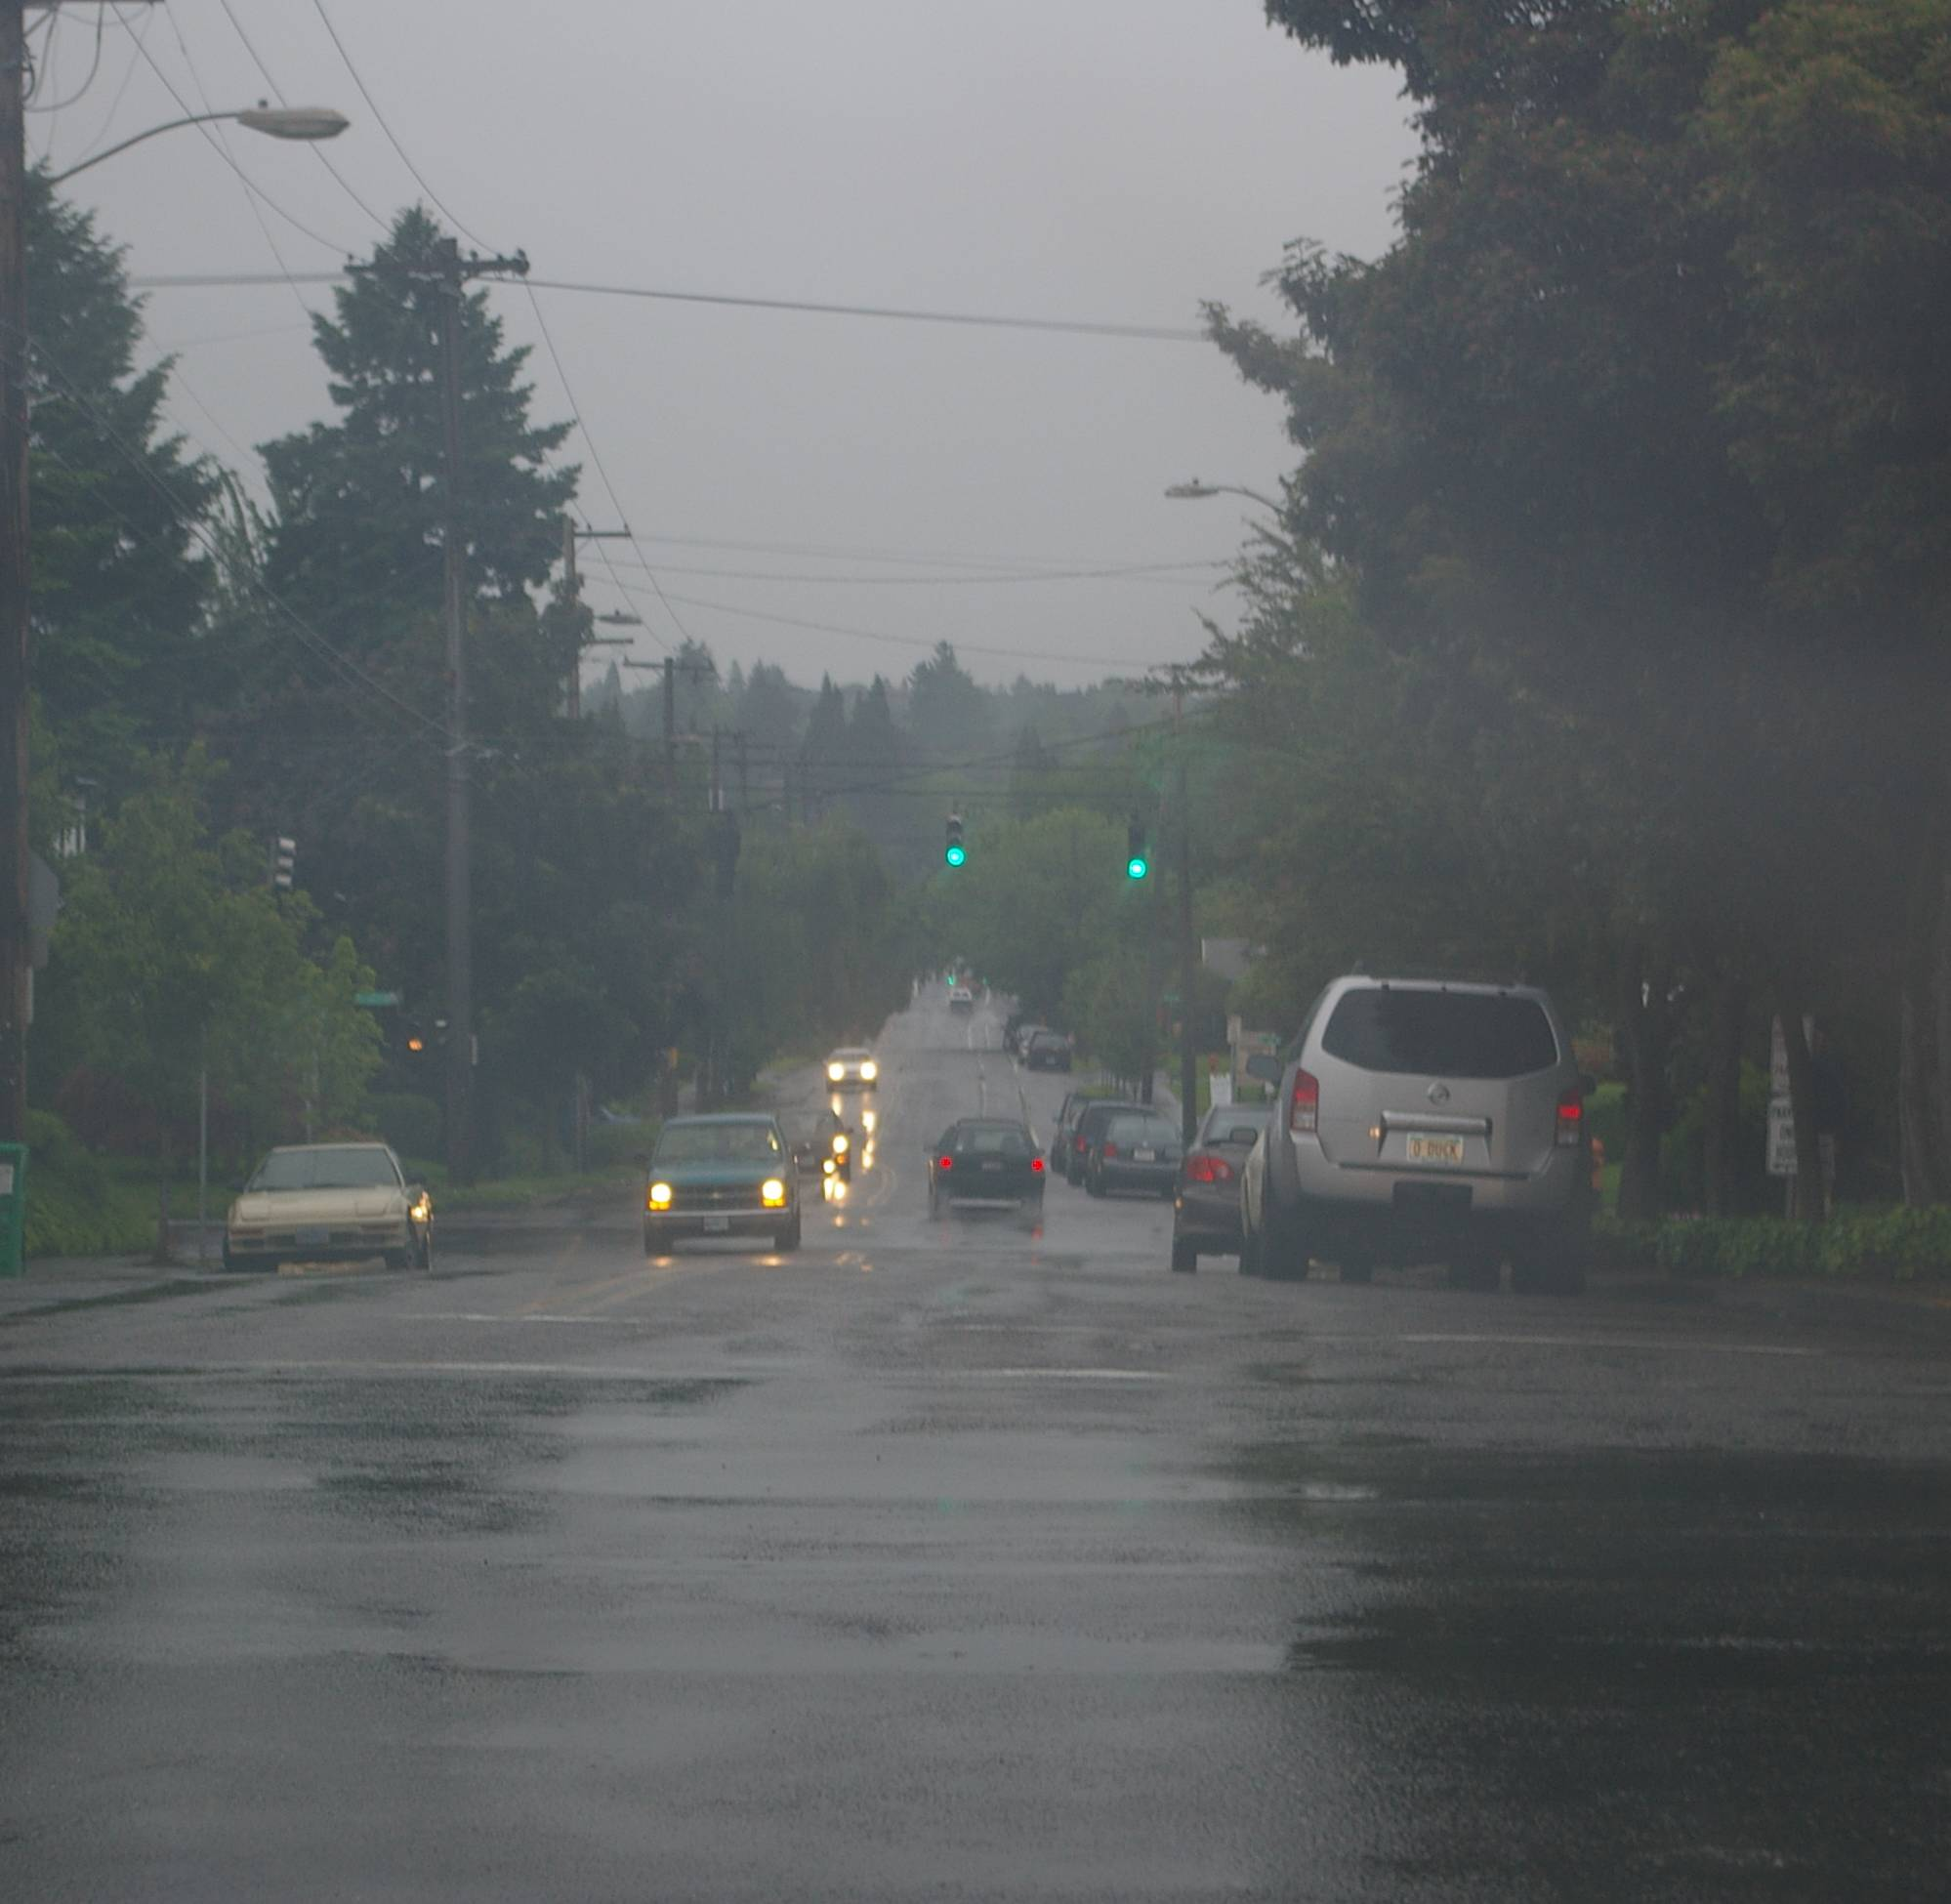car: (1240, 978, 1606, 1295), (223, 1139, 431, 1275), (643, 1112, 799, 1264), (1166, 1107, 1269, 1275), (922, 1114, 1046, 1227), (1090, 1107, 1186, 1203), (785, 1102, 849, 1177), (823, 1043, 877, 1091), (1064, 1105, 1095, 1186), (1027, 1032, 1072, 1078)
